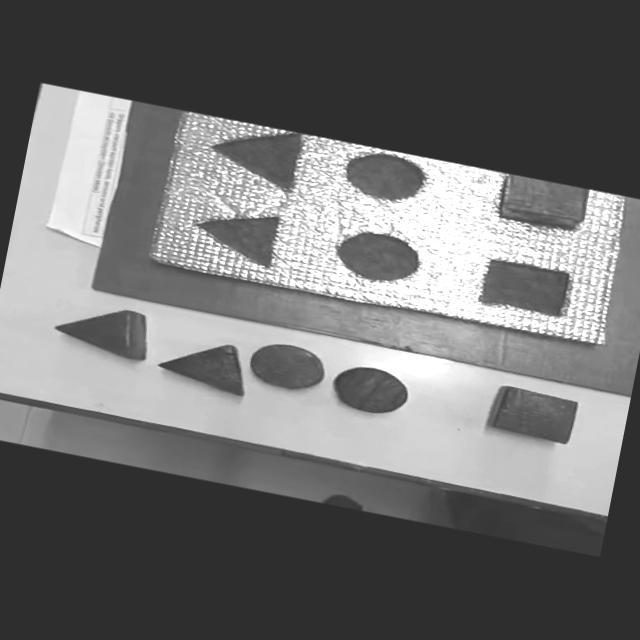bcircle: (328, 361, 414, 420)
bcube: (483, 382, 582, 447)
btriangle: (158, 333, 252, 397)
mtcircle: (331, 225, 426, 289), (339, 146, 430, 208)
mtcube: (476, 256, 573, 320)
mttriangle: (206, 118, 306, 194), (189, 201, 286, 270)
rcircle: (248, 339, 328, 395)
rcube: (497, 175, 591, 232)
rtriangle: (54, 298, 154, 362)
wb: (146, 110, 634, 352)
